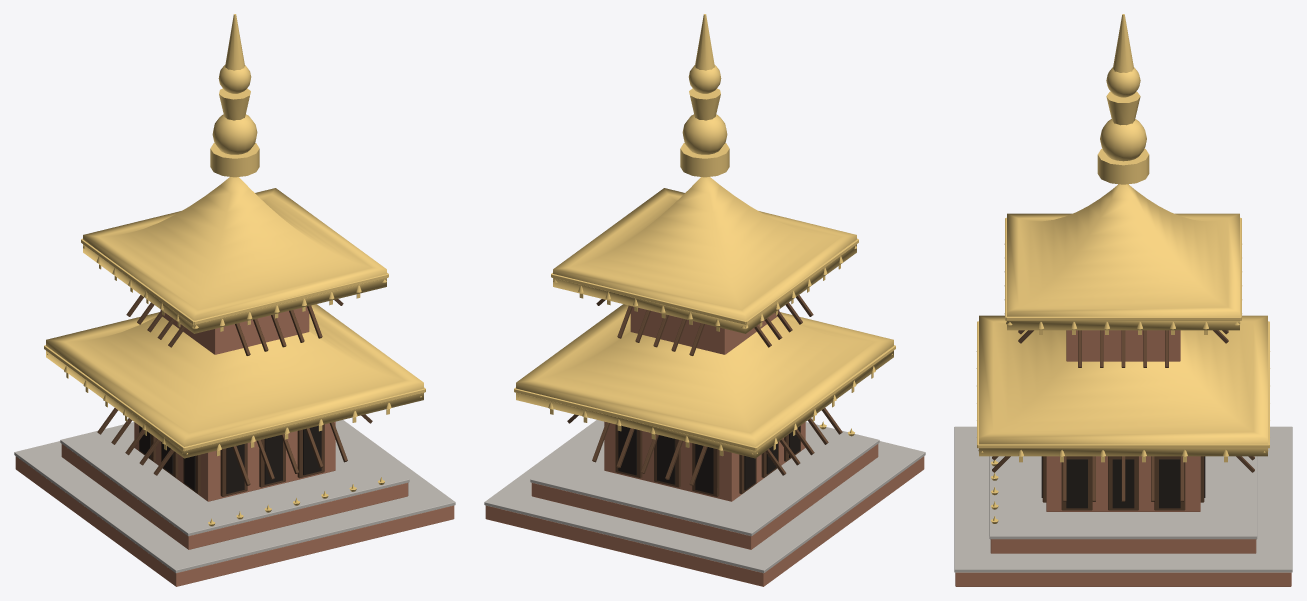
The model's file is pashupati_gold.glb.
3 renders of one model, left to right at view 1: azimuth 30°, elevation 25°; view 2: azimuth 150°, elevation 25°; view 3: azimuth 270°, elevation 25°, orthographic. The views are drawn at different scales.
Parts seen in each view (by area): view 1: pashupati_gold; view 2: pashupati_gold; view 3: pashupati_gold.
Part boxes in pixels (x1,y1,x2,y2): pashupati_gold: (14,14,455,586); pashupati_gold: (484,14,925,586); pashupati_gold: (954,14,1292,586).
Size of the model in its own units: 1.01 by 1.65 by 1.01.
